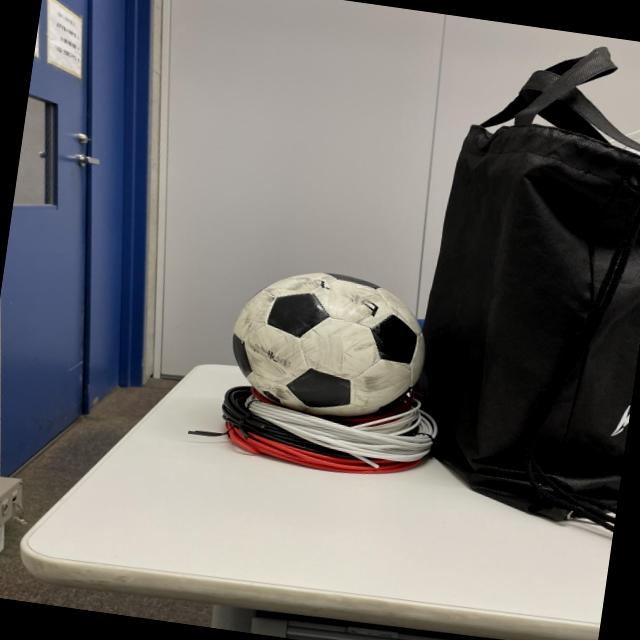Soccer Ball: (225, 262, 433, 428)
